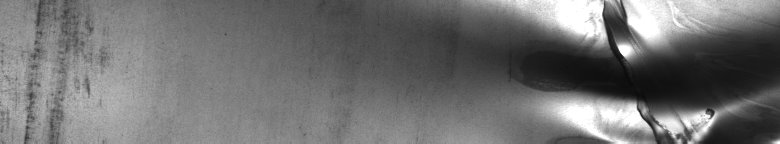ke: (523, 4, 776, 136)
